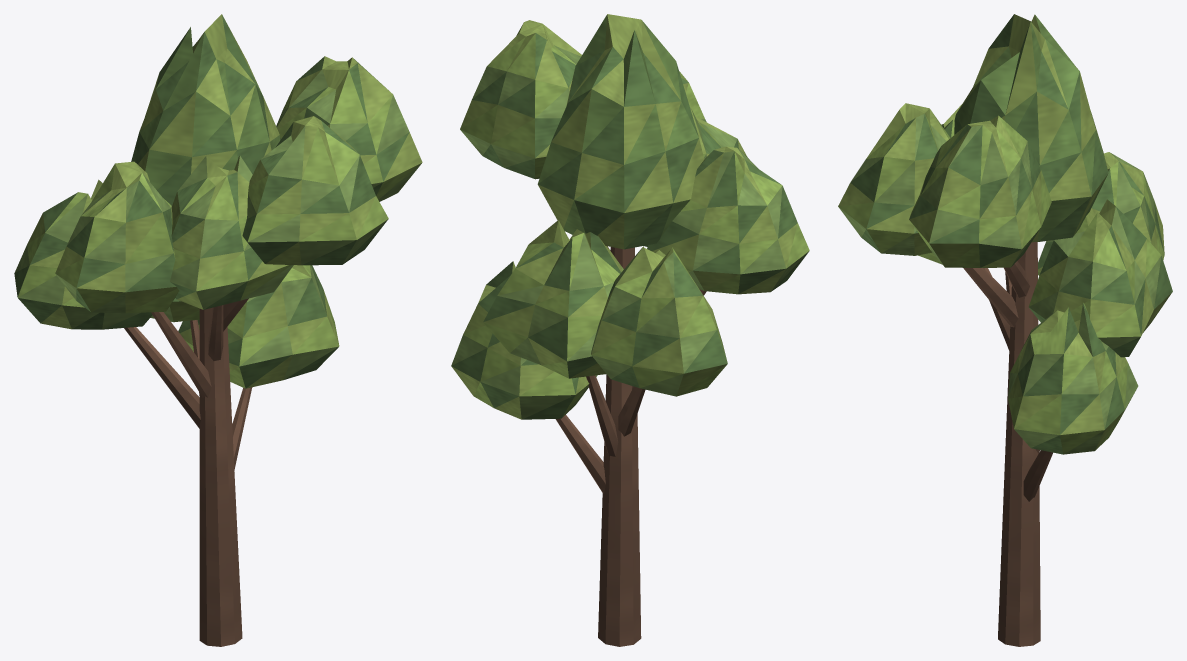
The model's file is tree_small_sapling_02.fbx.
3 views of the same model, side by side, from view 1: azimuth 30°, elevation 25°; view 2: azimuth 150°, elevation 25°; view 3: azimuth 270°, elevation 25° (orthographic).
Visible parts, largest first — view 1: tree_small_sapling_02; view 2: tree_small_sapling_02; view 3: tree_small_sapling_02.
Part boxes in pixels (<box>): tree_small_sapling_02: <box>14,14,422,646</box>; tree_small_sapling_02: <box>451,14,809,646</box>; tree_small_sapling_02: <box>838,14,1172,646</box>.
Bounding box in the file's own units: 161 × 295 × 144.
Materials: 1 (1 with a texture image).
